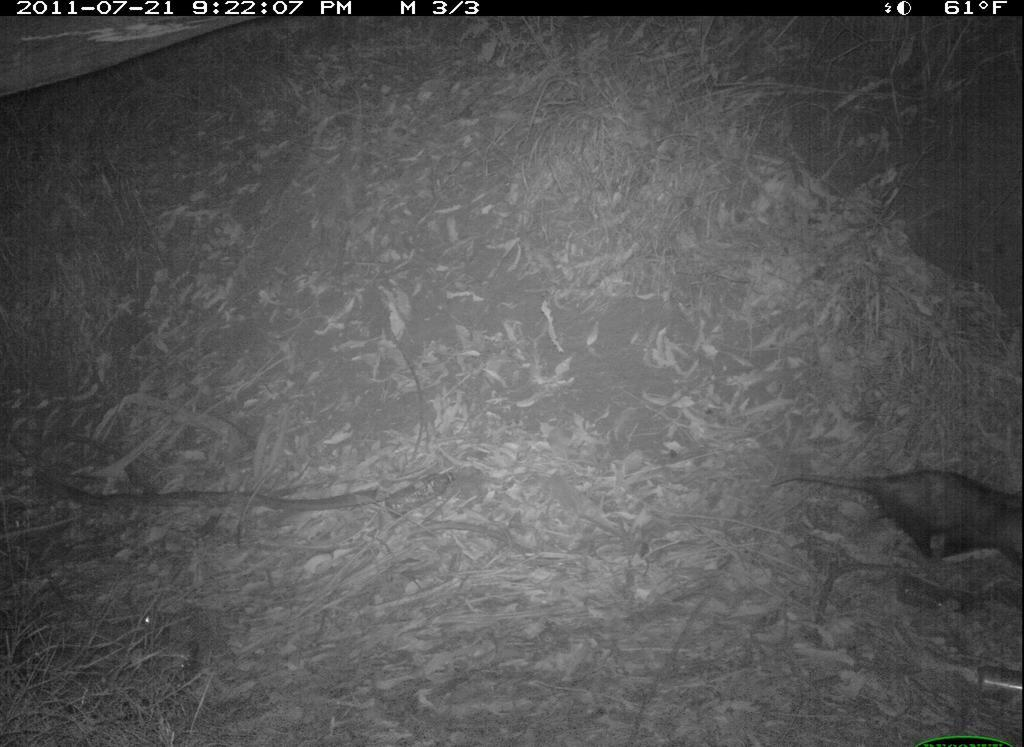opossum: (765, 460, 1023, 581)
